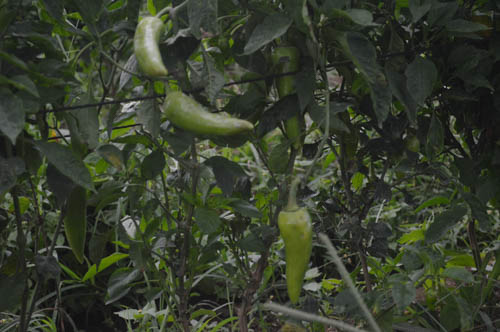ChiliPepper: (161, 90, 257, 143), (265, 47, 311, 146), (274, 206, 312, 309), (59, 177, 93, 265), (133, 16, 169, 81)
